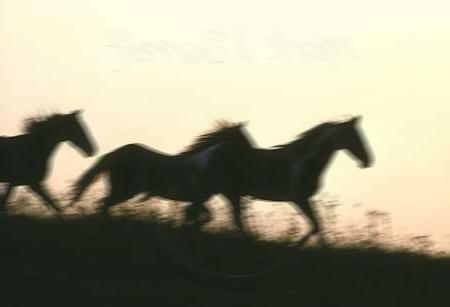horse: (180, 113, 372, 249), (62, 117, 256, 233), (0, 106, 96, 219)
